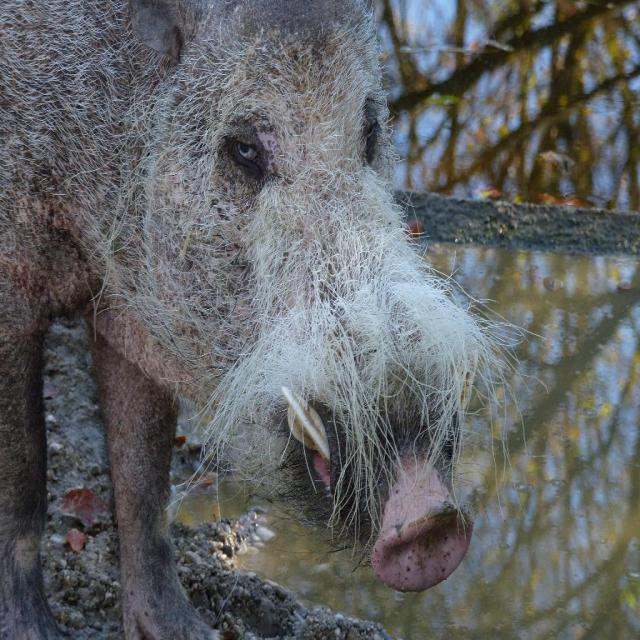Pig: (0, 0, 550, 639)
